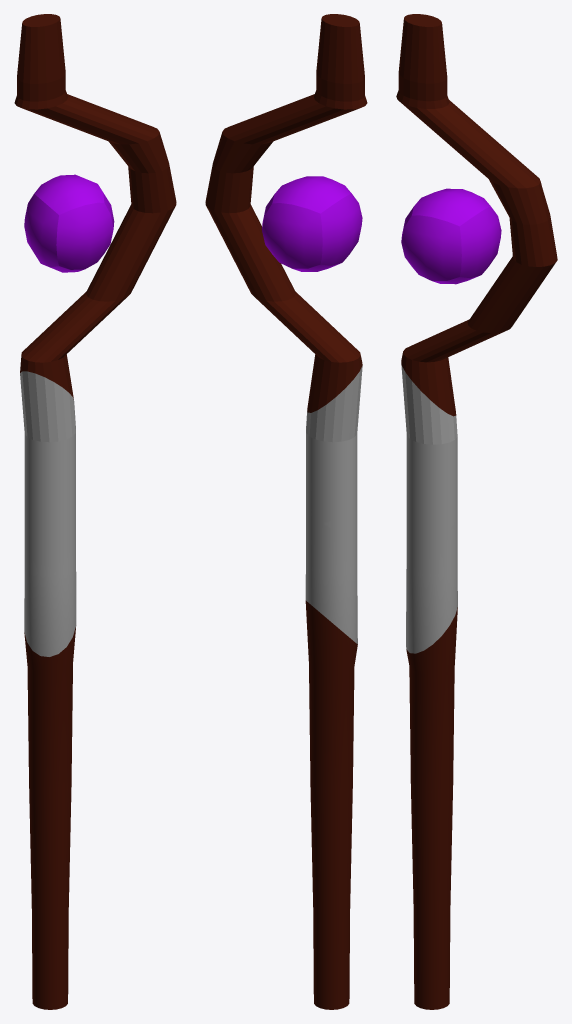
The model's file is bastonGalentin.fbx.
The picture shows the model from 3 angles, left to right: view 1: azimuth 30°, elevation 25°; view 2: azimuth 150°, elevation 25°; view 3: azimuth 330°, elevation 25°; orthographic projection.
Visible parts, largest first — view 1: BastonGalentin; view 2: BastonGalentin; view 3: BastonGalentin.
Part boxes in pixels (x1,y1,x2,y2): BastonGalentin: [14, 14, 176, 1009]; BastonGalentin: [205, 14, 367, 1009]; BastonGalentin: [396, 14, 557, 1009].
Size of the model in its own units: 0.2646 by 1.58 by 0.1416.
